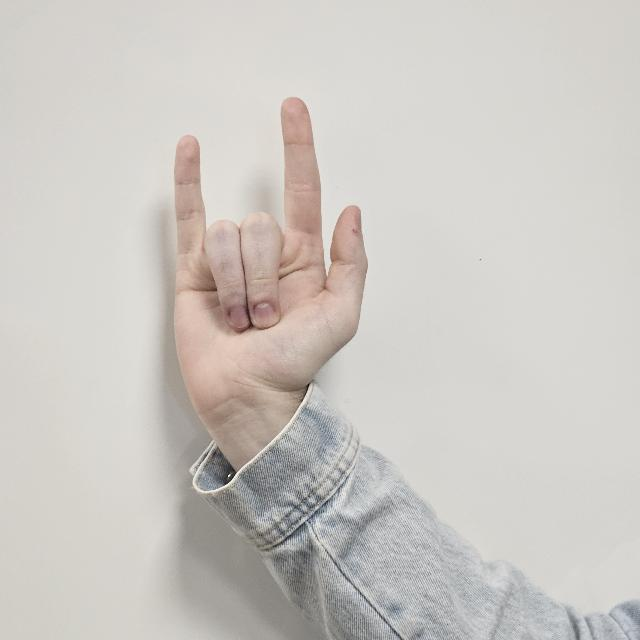L: (170, 91, 370, 425)
